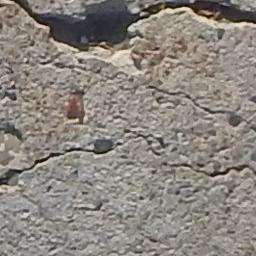Hairline-Crack: (0, 88, 256, 192)
Structural-Crack: (0, 0, 256, 89)
